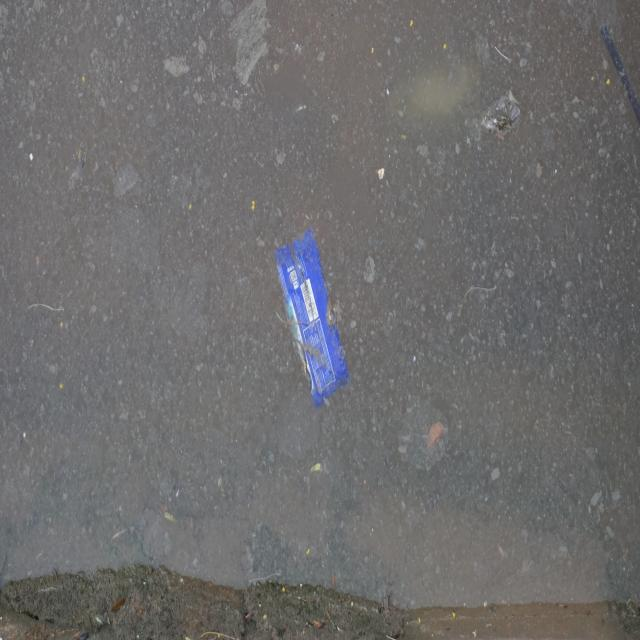Bungkus Makanan: (279, 222, 357, 418)
